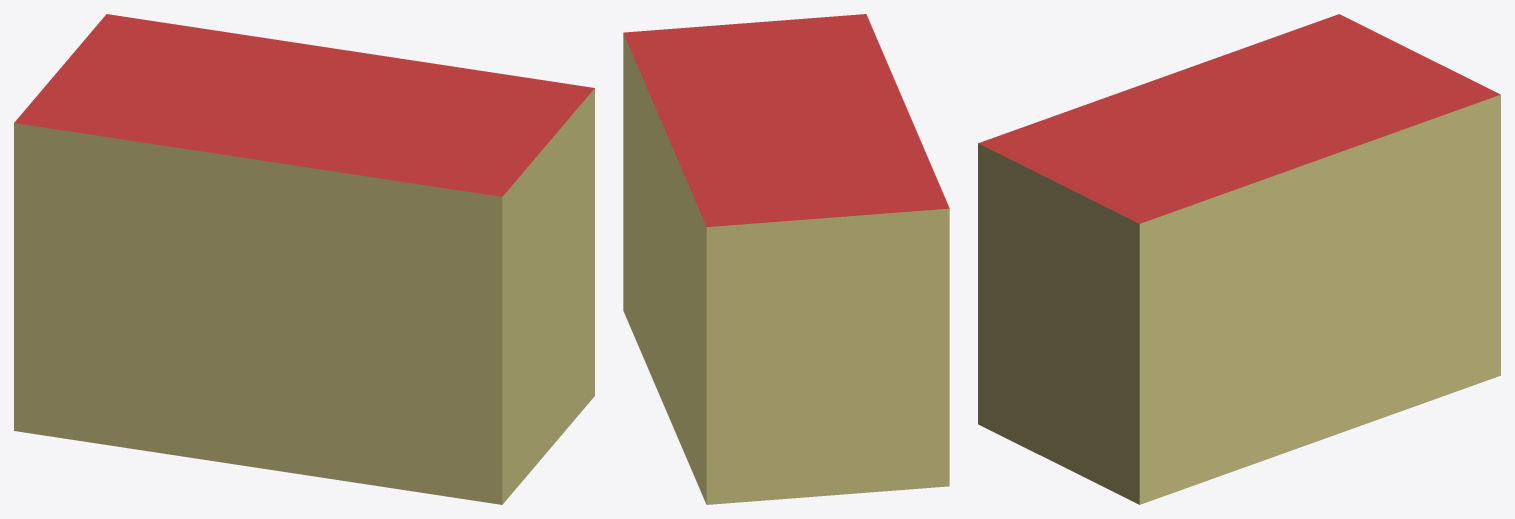
3 views of the same model, side by side, from view 1: azimuth 30°, elevation 25°; view 2: azimuth 150°, elevation 25°; view 3: azimuth 270°, elevation 25° (orthographic). The views are drawn at different scales.
Parts seen in each view (by area): view 1: group_4, group_3; view 2: group_4, group_3; view 3: group_4, group_3.
Boxes of the visible parts, box(x1,y1,x2,y2) form: group_4: box(14, 88, 594, 504); group_3: box(14, 14, 594, 196); group_4: box(623, 33, 949, 504); group_3: box(623, 14, 949, 226); group_4: box(978, 94, 1500, 504); group_3: box(978, 14, 1500, 223).
Size of the model in its own units: 11.18 by 11.77 by 6.98.
